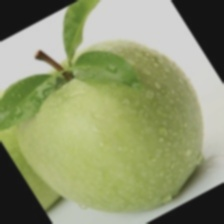apple: (0, 53, 201, 200)
